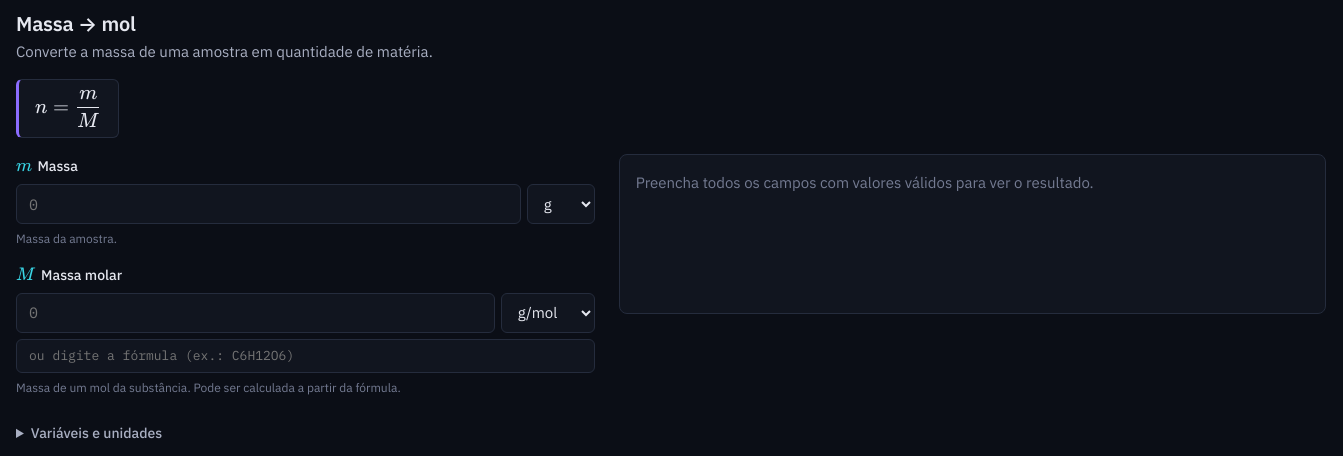
it: calculadora (componente) › preenche M a partir da fórmula
The image size is (1343, 456).
Type "H2O" into the field named "Fórmula para calcular" at (305, 356), box [16,339,595,373]
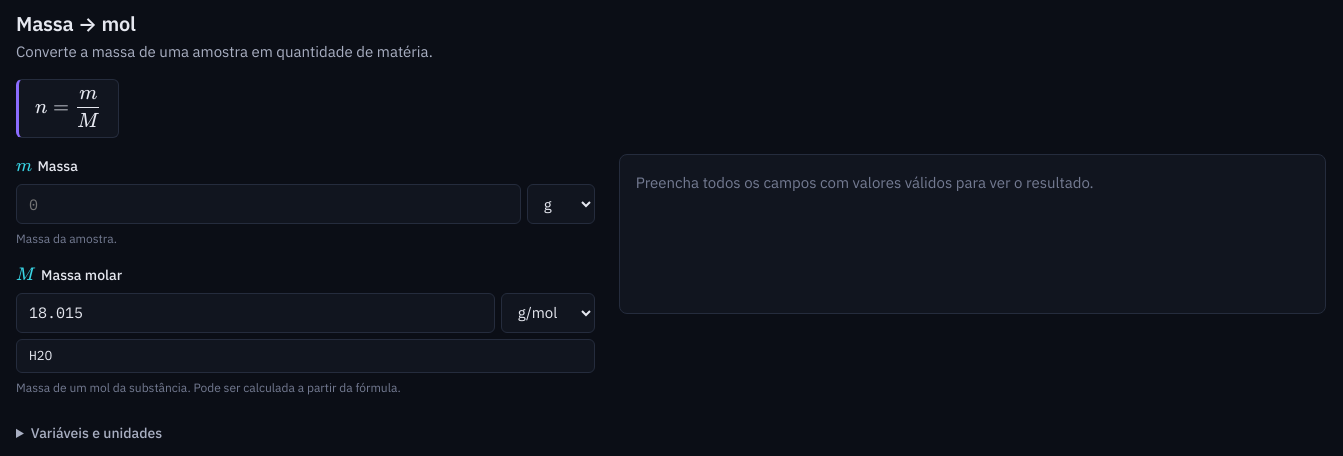
Expected: the field labelled "M Massa molar" holds "18.015", [16,293,495,333]
